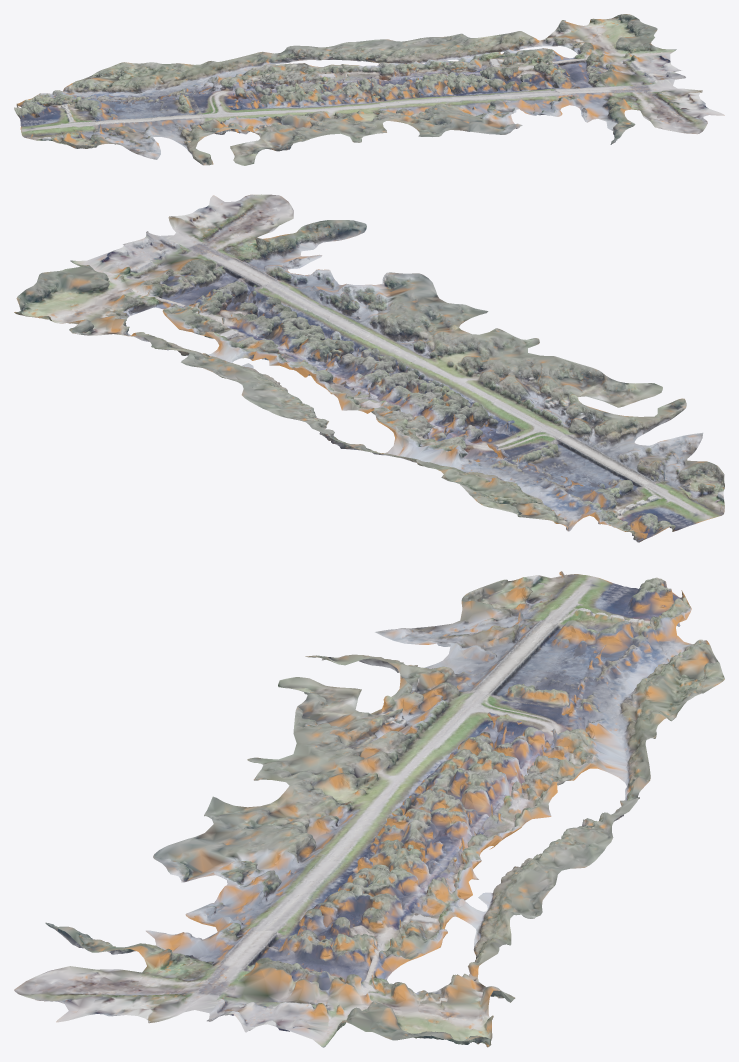
3 renders of one model, top to bottom at view 1: azimuth 30°, elevation 25°; view 2: azimuth 150°, elevation 25°; view 3: azimuth 270°, elevation 25°, orthographic. The views are drawn at different scales.
Visible parts, largest first — view 1: model; view 2: model; view 3: model.
Part boxes in pixels (x1=…): model: x1=14, y1=14, x2=724, y2=165; model: x1=14, y1=194, x2=724, y2=542; model: x1=14, y1=571, x2=724, y2=1047.
Size of the model in its own units: 1089 by 35.34 by 688.
